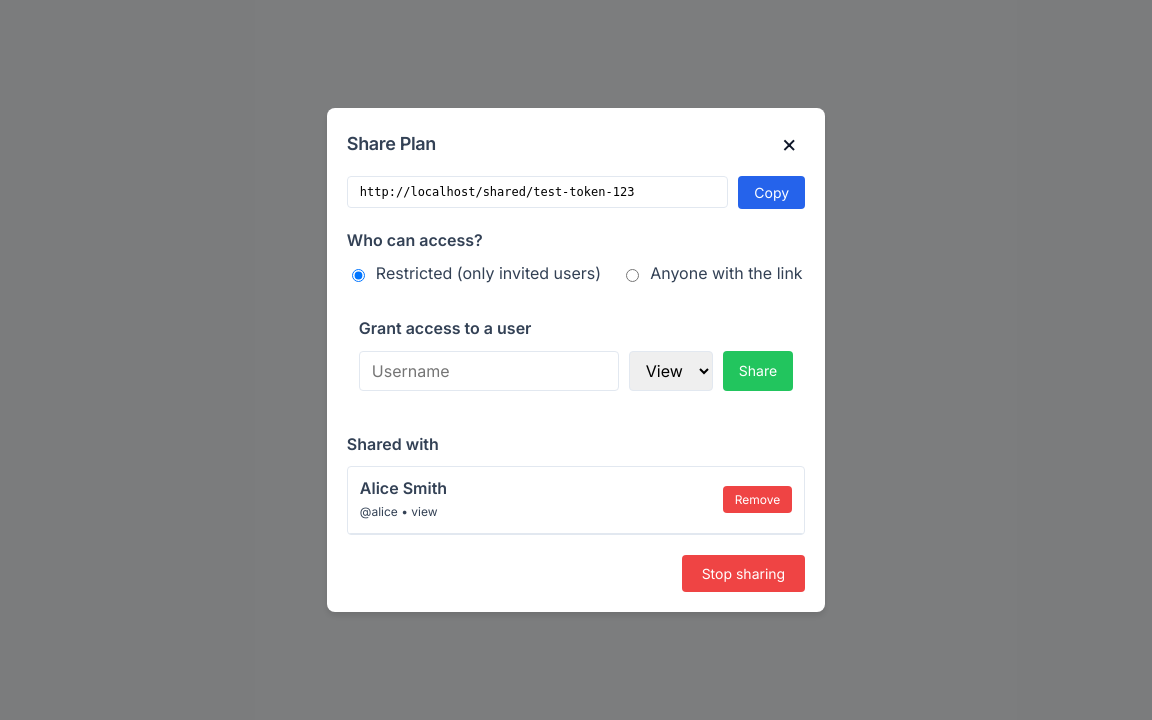
it: ShareDialog › removes grant when Remove button is clicked
The width and height of the screenshot is (1152, 720).
Expected: the text "Alice Smith" is shown, [360,477,447,500]
Click the button "Remove" at (757, 500), box [723,486,792,513]
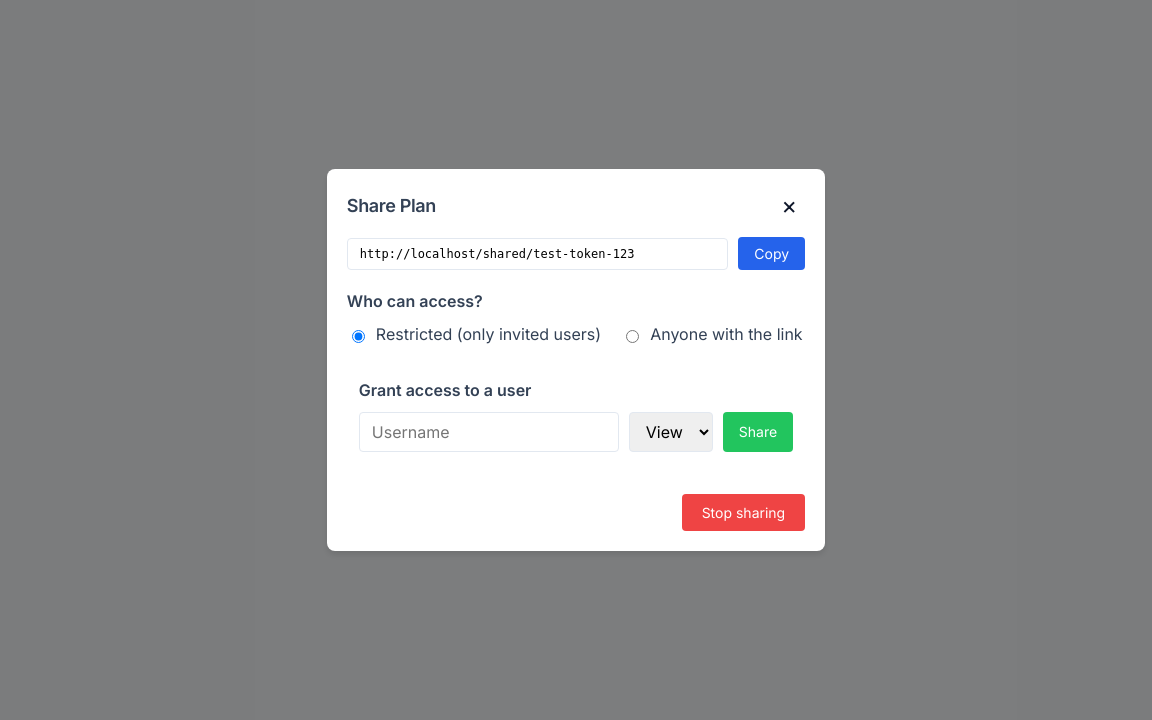
Expected: the text "Alice Smith" is gone
